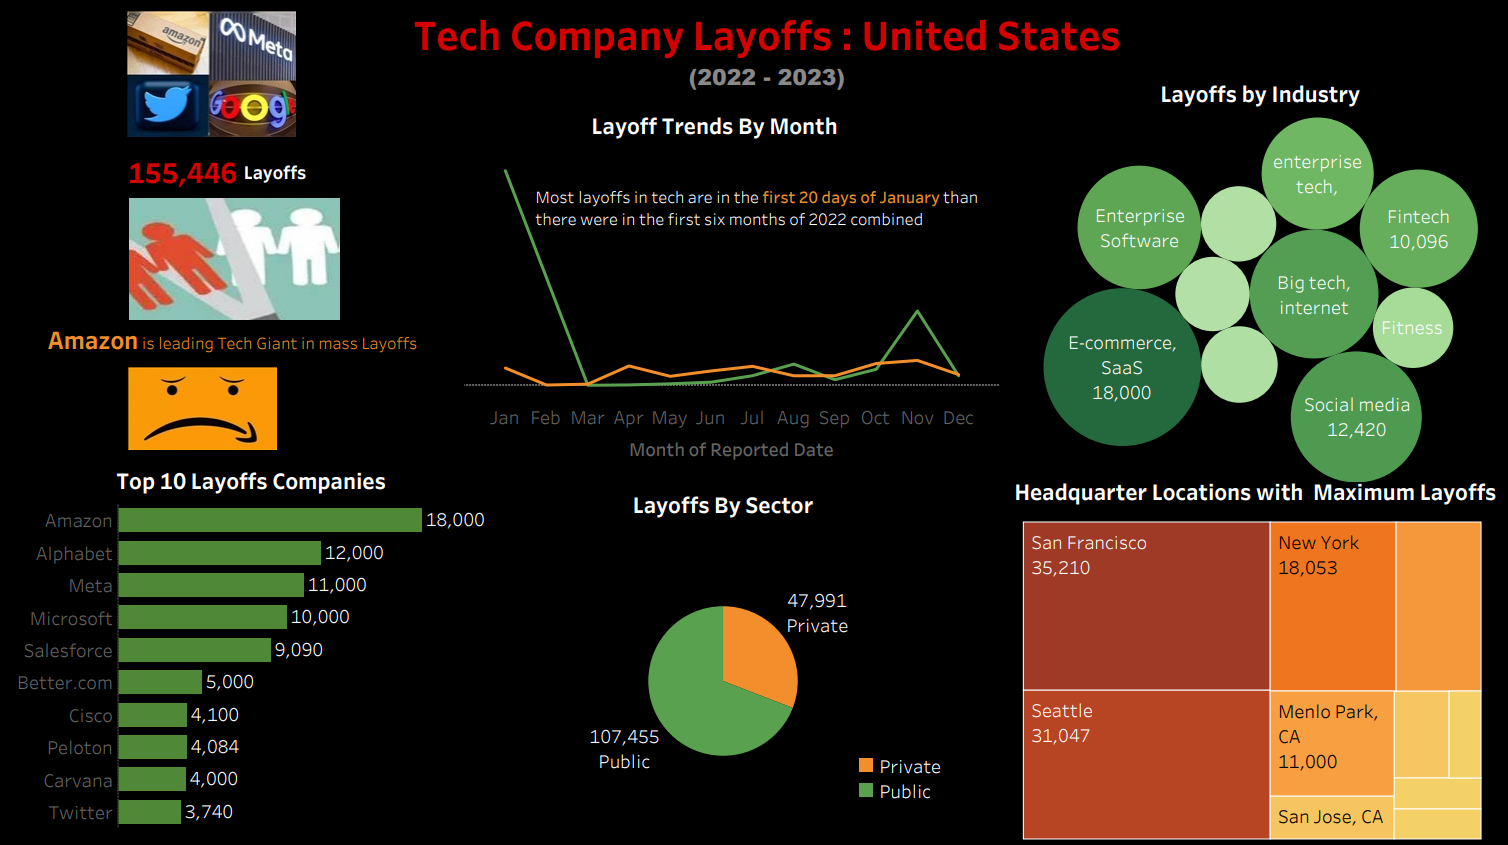

The page's visual inventory and layout, read from the dashboard file:
{"tool":"tableau","page":{"name":"Layoffs2023","canvas":[1538,872],"ordinal":0},"visuals":[{"type":"image","box":[8,8,1522,856]},{"type":"title","box":[35,16,1495,93]},{"type":"image","param":"F:/Selfwork/Tableau project/My Expenses/th.jpeg","box":[61.6,24,331.8,126]},{"type":"worksheet","title":"Layoffs by Industry","mark":"Circle","box":[1032,85,488,410]},{"type":"text","box":[603,120,558,37]},{"type":"text","box":[251.4,145,241.4,80]},{"type":"worksheet","title":"Total Number of Layoffs","mark":"Automatic","box":[137.1,166,206.7,107]},{"type":"worksheet","title":"Laysoffs by Month","mark":"Automatic","rows":["total_layoffs"],"cols":["reported_date"],"box":[478.9,171,535.5,310]},{"type":"text","box":[547.4,192,451.1,58]},{"type":"image","param":"F:/Selfwork/Tableau project/My Expenses/cut.jpeg","box":[145.1,211,209.6,122]},{"type":"text","box":[58.6,307,511.7,90]},{"type":"image","param":"F:/Selfwork/Tableau project/My Expenses/amazon.jpeg","box":[144.1,368,148,108]},{"type":"worksheet","title":"Top 10 Layoffs By Company","mark":"Bar","rows":["company"],"cols":["total_layoffs"],"box":[12.9,472,506.7,369]},{"type":"worksheet","title":"Layoffs By Sector","mark":"Pie","box":[486.8,496,502.7,351]},{"type":"worksheet","title":"Layoffs By Location","mark":"Automatic","box":[1035,531,467,326]},{"type":"legend","title":"Layoffs By Sector","param":"[federated.0gyzzsu0863dxm1356n4k0i89bgx].[none:status:nk]","box":[869,766,140,53]}]}

Visuals, with their boxes in screenshot pixels (x1, y1, x2, y2), scaled from the page's 1538x872 canvas onto the 1508x845 screenshot:
image: (x1=8, y1=8, x2=1500, y2=837)
title: (x1=34, y1=16, x2=1500, y2=106)
image: (x1=60, y1=23, x2=386, y2=145)
"Layoffs by Industry" worksheet (Circle marks): (x1=1012, y1=82, x2=1490, y2=480)
text: (x1=591, y1=116, x2=1138, y2=152)
text: (x1=246, y1=141, x2=483, y2=218)
"Total Number of Layoffs" worksheet: (x1=134, y1=161, x2=337, y2=265)
"Laysoffs by Month" worksheet: (x1=470, y1=166, x2=995, y2=466)
text: (x1=537, y1=186, x2=979, y2=242)
image: (x1=142, y1=204, x2=348, y2=323)
text: (x1=57, y1=297, x2=559, y2=385)
image: (x1=141, y1=357, x2=286, y2=461)
"Top 10 Layoffs By Company" worksheet (Bar marks): (x1=13, y1=457, x2=509, y2=815)
"Layoffs By Sector" worksheet (Pie marks): (x1=477, y1=481, x2=970, y2=821)
"Layoffs By Location" worksheet: (x1=1015, y1=515, x2=1473, y2=830)
"Layoffs By Sector" legend: (x1=852, y1=742, x2=989, y2=794)
